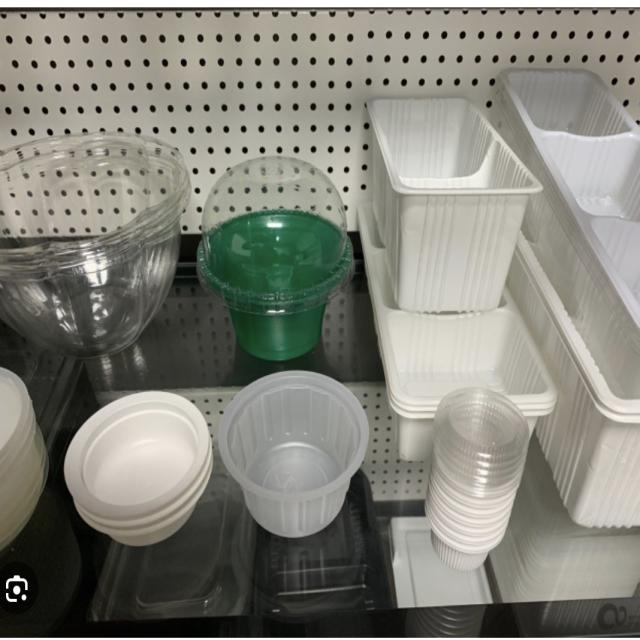recyclable: (4, 78, 194, 362), (368, 62, 542, 318), (197, 143, 356, 361), (50, 379, 217, 554), (214, 368, 378, 538), (426, 377, 530, 577)
